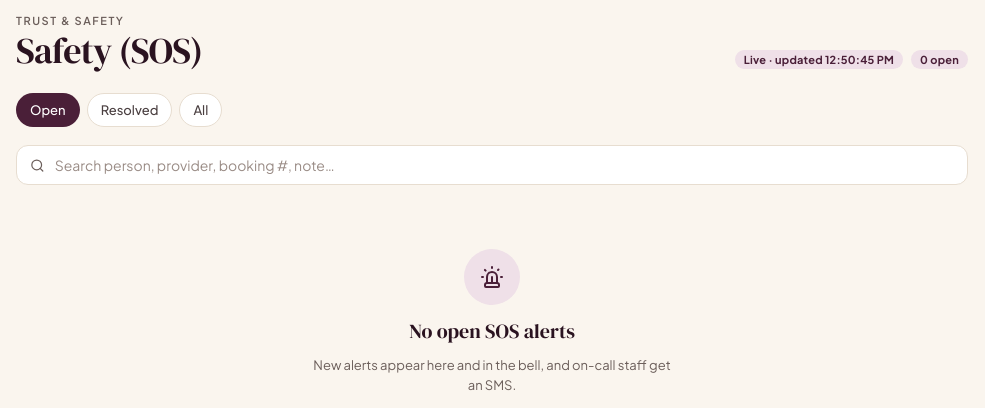
Test: <Safety> - the oldest-open-alert banner (R6-03) › a genuinely empty queue shows no banner, with or without a search
Expected: the text "No open SOS alerts" is shown, [409,317,575,345]
Type "done" into the field with placeholder "Search person, provider, booking #, note…" at (503, 165), box [53,155,954,175]
Wait 400 ms
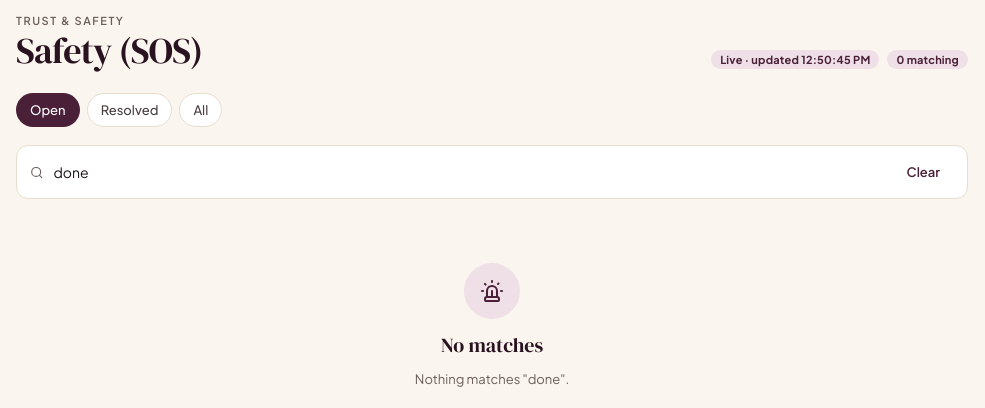
Expected: the text "No matches" is shown, [441,331,543,359]
